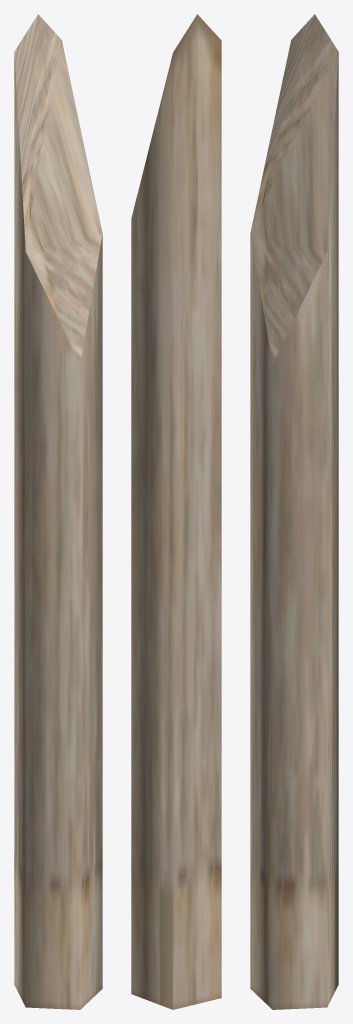
Rendered from thm_tato_debris_s01_l2.fbx.
3 views of the same model, side by side, from view 1: azimuth 30°, elevation 25°; view 2: azimuth 210°, elevation 25°; view 3: azimuth 330°, elevation 25° (orthographic). The views are drawn at different scales.
Parts seen in each view (by area): view 1: mesh_node; view 2: mesh_node; view 3: mesh_node.
Boxes of the visible parts, <box> form: mesh_node: <box>14,14,102,1009</box>; mesh_node: <box>131,14,221,1009</box>; mesh_node: <box>250,14,338,1009</box>.
Size of the model in its own units: 0.383 by 4.6 by 0.3643.
